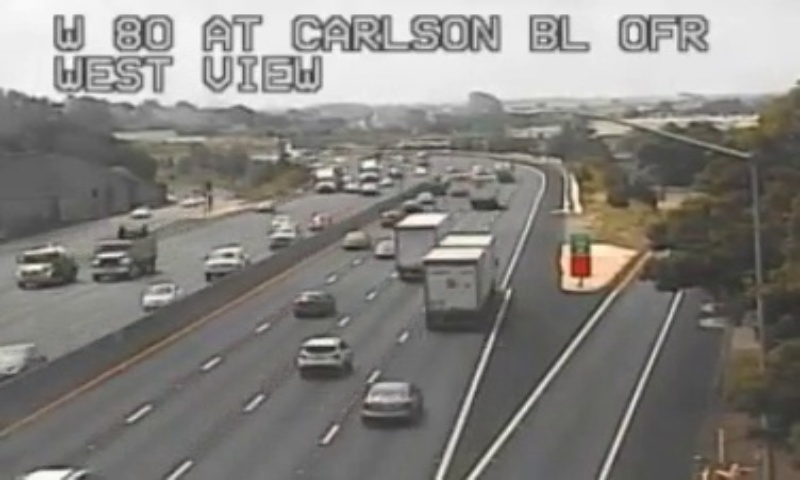car: (361, 380, 423, 424), (295, 337, 351, 368), (292, 290, 337, 317), (340, 229, 370, 250), (372, 238, 400, 259)
truck: (423, 232, 493, 330), (393, 211, 448, 283)
